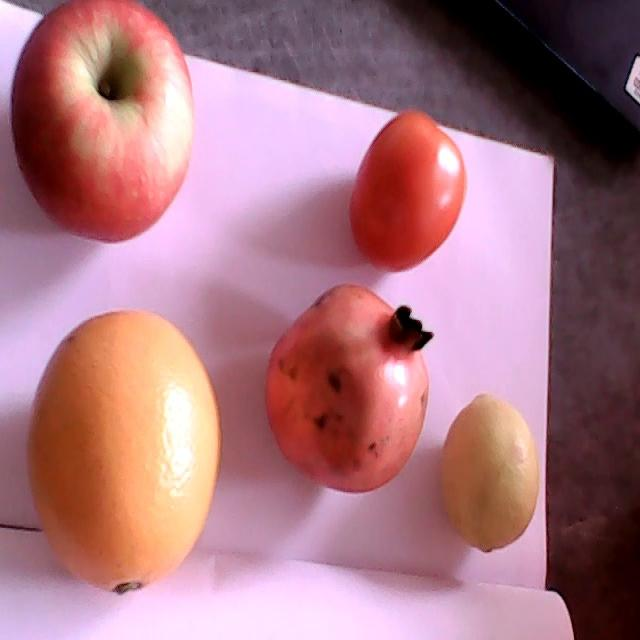apple: (12, 0, 194, 243)
lemon: (437, 393, 539, 553)
orange: (27, 309, 221, 593)
pomegranate: (265, 281, 434, 493)
tomato: (349, 108, 467, 273)
